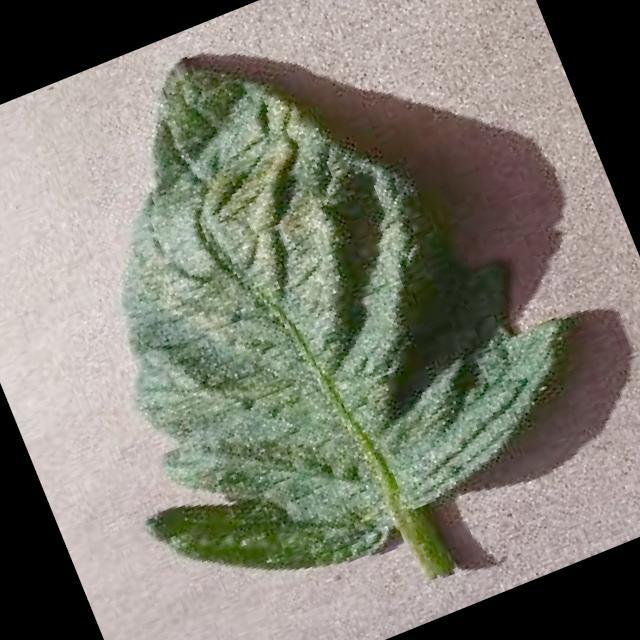Tomato spider mites leaf: (0, 0, 622, 629)
